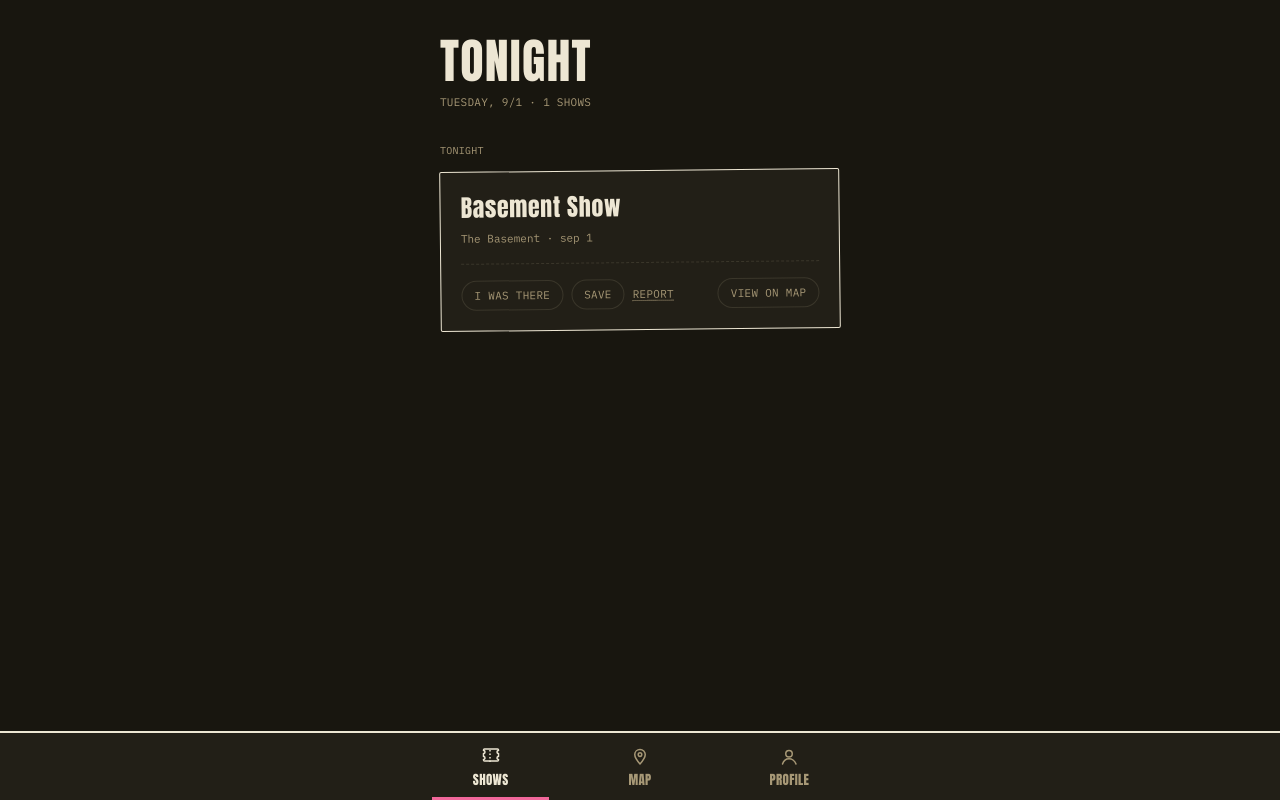
Test: HomeBrowser attendance ('I Was There') › shows a clear message and no fallback when location is unavailable
This screenshot has width=1280, height=800.
Click the button "i was there": (512, 295) x1=461 y1=279 x2=563 y2=311
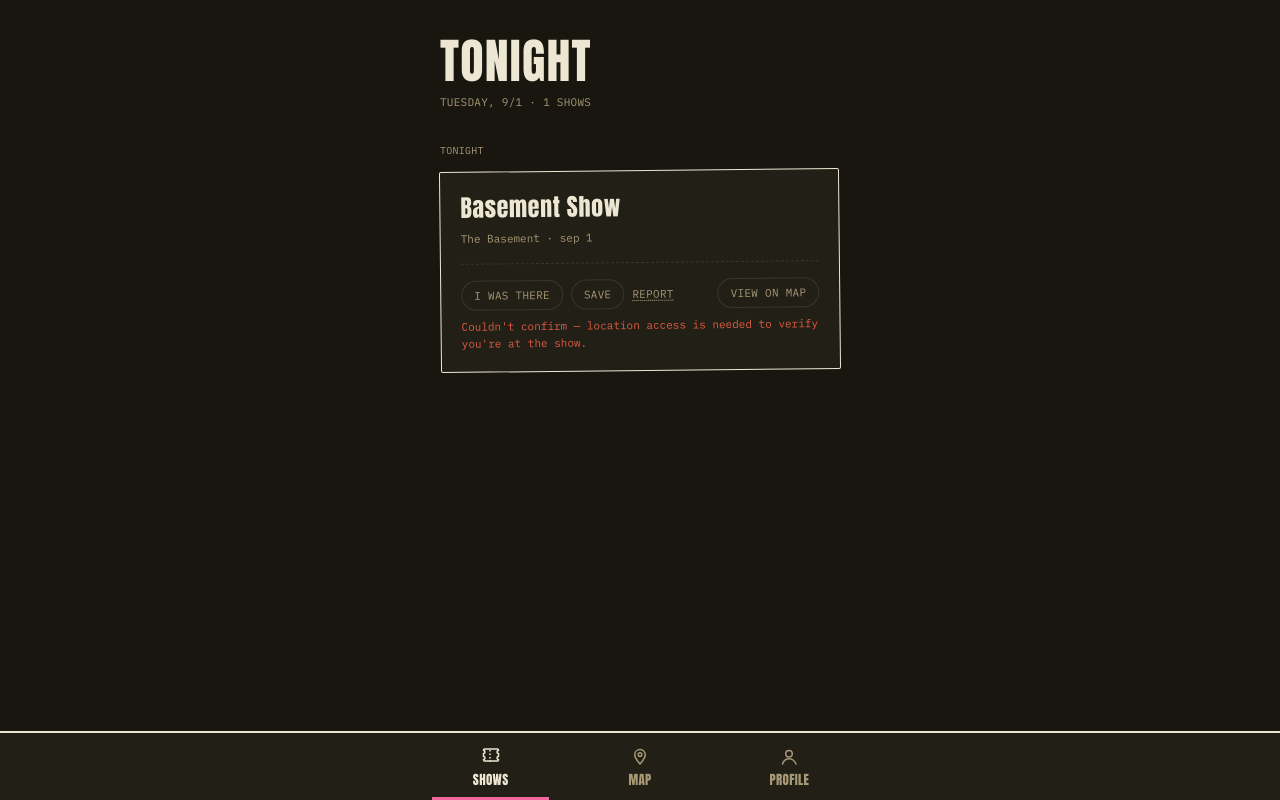
Expected: the text "location access is needed" is shown, x1=462 y1=316 x2=818 y2=350
